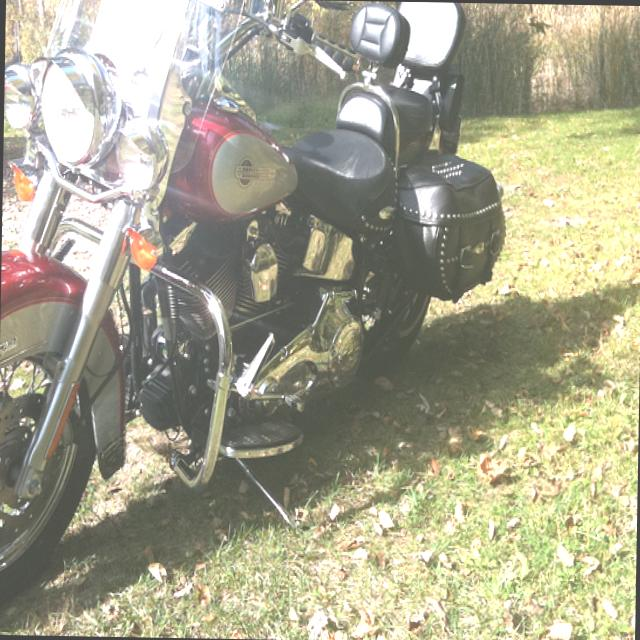Vehicle: (0, 0, 508, 629)
